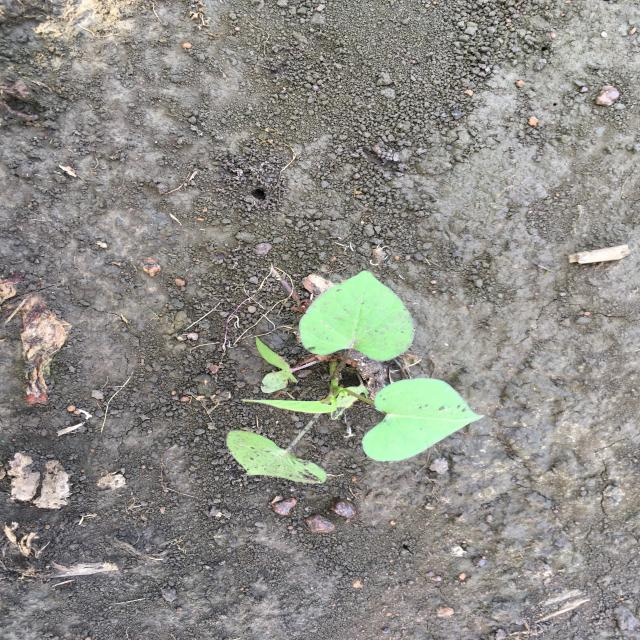MorningGlory: (223, 267, 490, 486)
